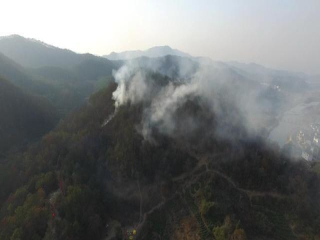smoke: (103, 43, 291, 144)
